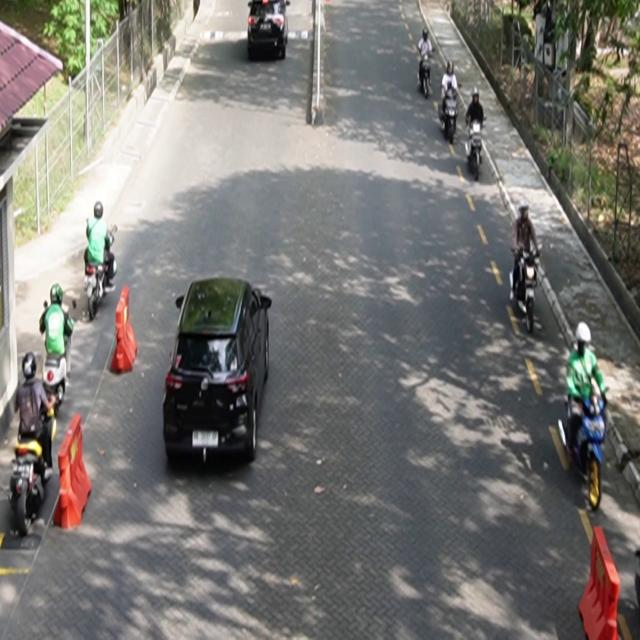car: (163, 277, 273, 465), (248, 1, 291, 61)
